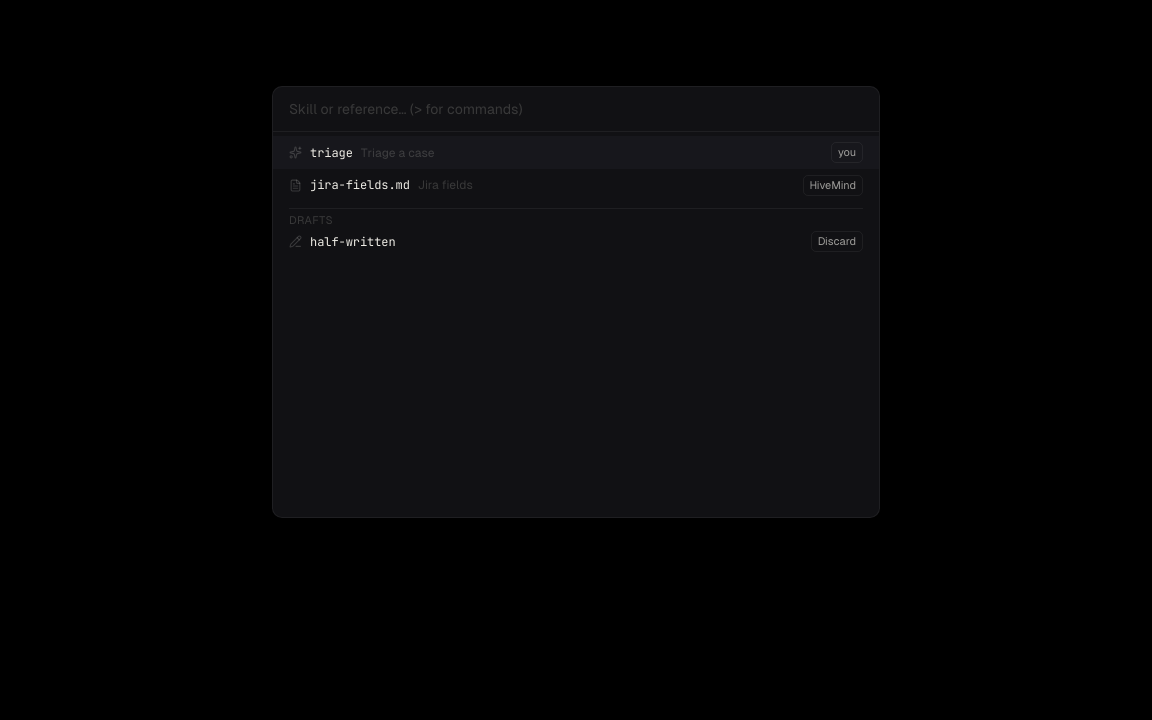
Scenario: CommandPalette · assets mode › says so when nothing matches
The image size is (1152, 720).
Type "zzzz" into the dropdown.
click(576, 110); type("zzzz")  # box [273, 87, 879, 132]
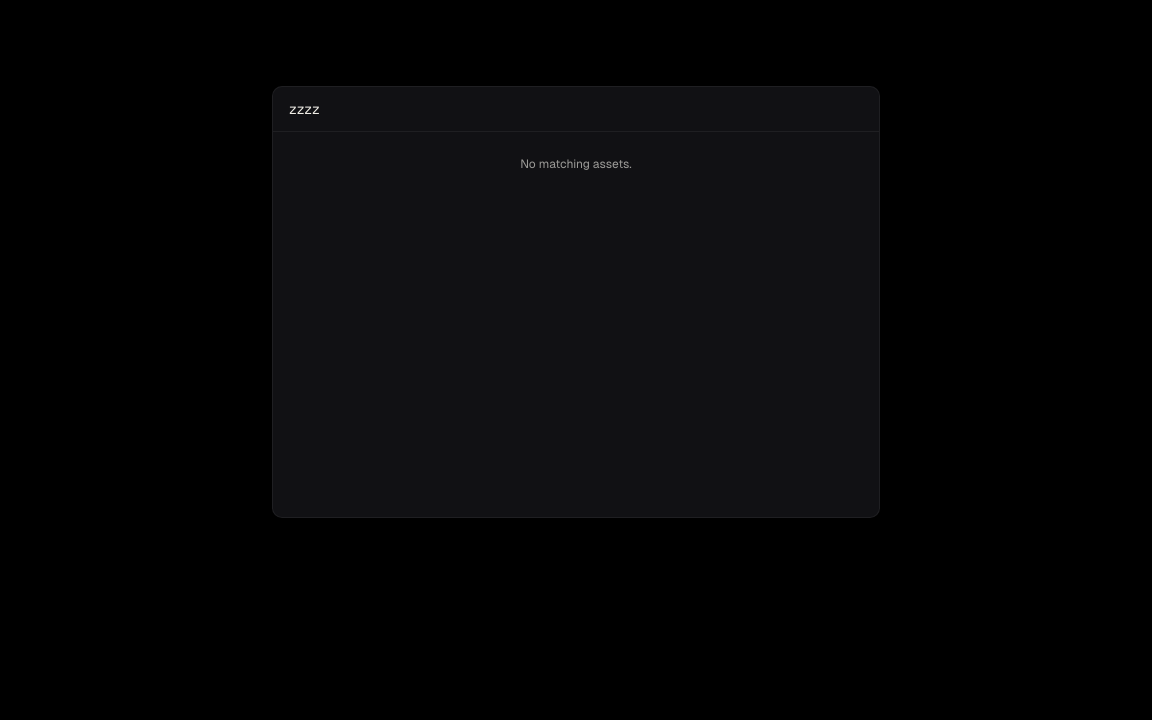
Expected: no options are shown
Expected: the text "No matching assets." is shown, [520, 157, 632, 171]
